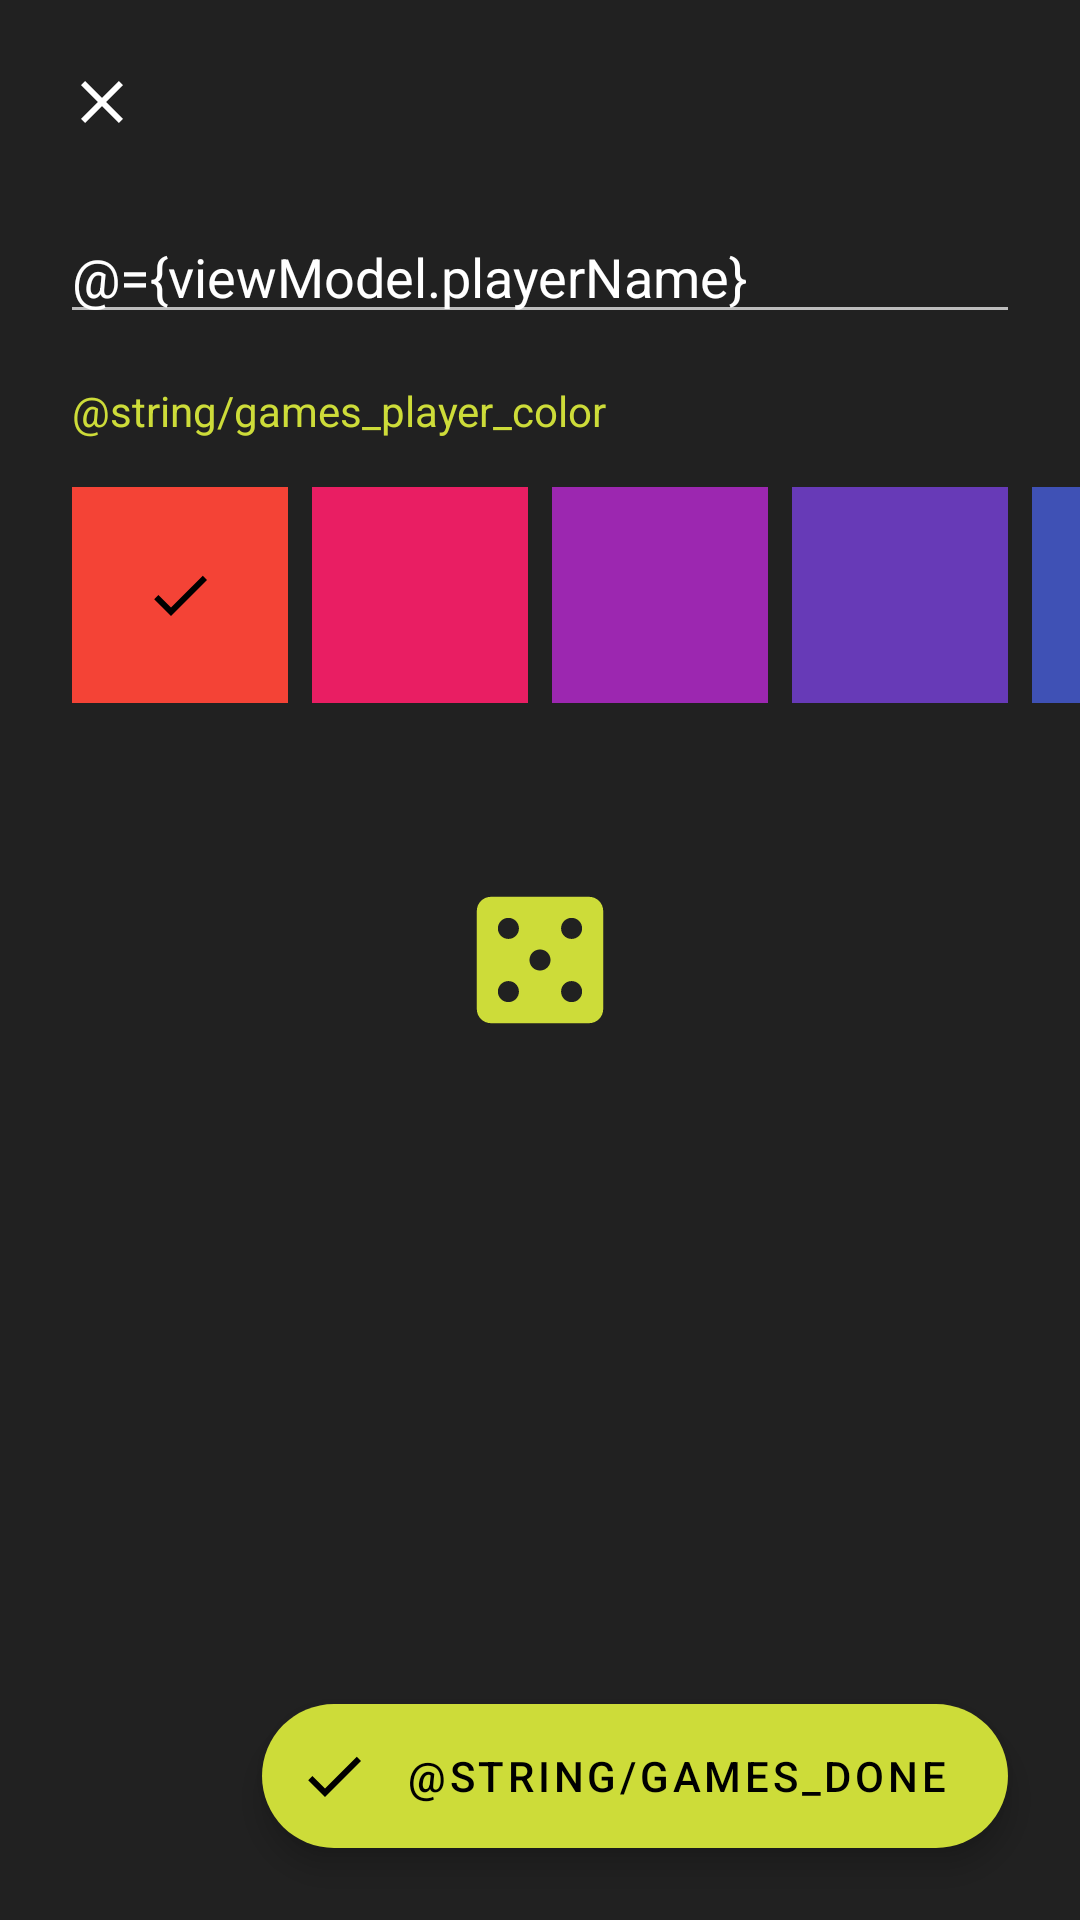

Screen size 1080x1920. Icon name, then its center in pixels as (x,y):
Close: (102,102)
